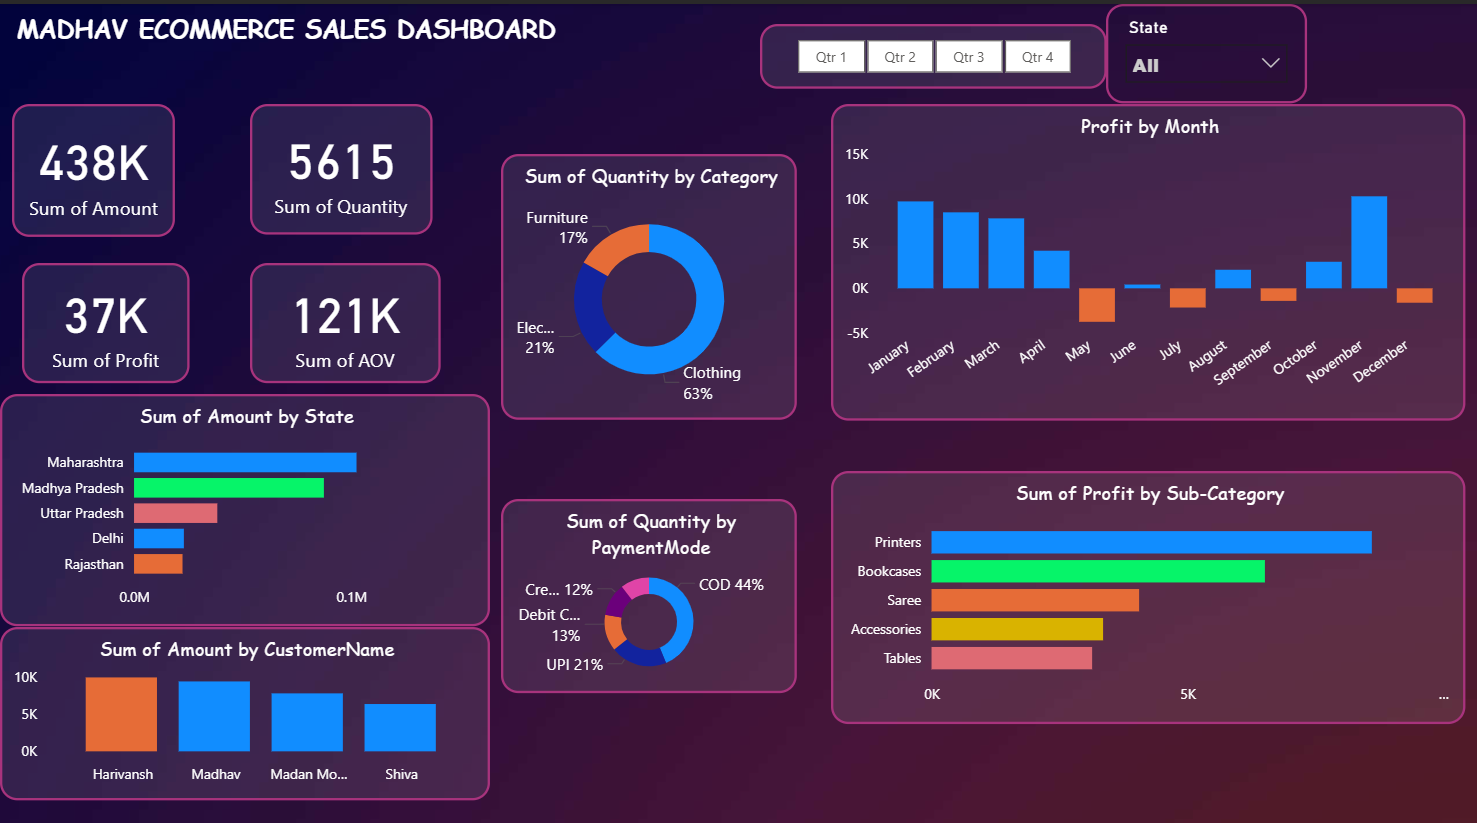

The dashboard page shown, as its layout file describes it:
{"tool":"powerbi","page":{"name":"Page 1","canvas":[1280,720],"ordinal":0},"visuals":[{"type":"textbox","box":[9.6,0,618.9,54.9],"z":0},{"type":"columnChart","title":"Profit by Month","fields":{"Y":["Details.Profit"],"Category":["Orders.Order Date.Variation.Date Hierarchy.Month"]},"box":[718.8,86.2,548.8,273.8],"z":1000},{"type":"barChart","fields":{"Category":["Details.Sub-Category"],"Y":["Details.Profit"]},"box":[718.8,403.8,548.8,218.8],"z":2000},{"type":"donutChart","fields":{"Category":["Details.Category"],"Y":["Details.Quantity"]},"box":[433.8,130,256.2,230],"z":3000},{"type":"donutChart","fields":{"Y":["Details.Quantity"],"Category":["Details.PaymentMode"]},"box":[433.8,428.8,256.2,167.5],"z":4000},{"type":"card","fields":{"Values":["Details.Amount"]},"box":[10,86.2,141.2,115],"z":5000},{"type":"card","fields":{"Values":["Details.Profit"]},"box":[18.8,223.8,145,103.8],"z":6000},{"type":"card","fields":{"Values":["Details.Quantity"]},"box":[216.2,86.2,157.5,112.5],"z":7000},{"type":"card","fields":{"Values":["Details.AOV"]},"box":[216.2,223.8,165,103.8],"z":8000},{"type":"barChart","fields":{"Category":["Orders.State"],"Y":["Details.Amount"]},"box":[0,337.5,423.8,201.2],"z":9000},{"type":"columnChart","fields":{"Category":["Orders.CustomerName"],"Y":["Details.Amount"]},"box":[0,539,424,150],"z":10000},{"type":"slicer","fields":{"Values":["Orders.Order Date.Variation.Date Hierarchy.Quarter"]},"box":[657.5,17.5,300,56.2],"z":11000},{"type":"slicer","fields":{"Values":["Orders.State"]},"box":[957.5,0,173.8,86.2],"z":12000}]}

Visuals, with their boxes in screenshot pixels (x1, y1, x2, y2), scaled from the page's 1280x720 canvas onto the 1477x823 screenshot:
textbox: [11, 0, 725, 63]
"Profit by Month" columnChart: [829, 99, 1463, 412]
barChart - Details.Sub-Category x Details.Profit: [829, 462, 1463, 712]
donutChart - Details.Category x Details.Quantity: [501, 149, 796, 412]
donutChart - Details.Quantity x Details.PaymentMode: [501, 490, 796, 682]
card - Details.Amount: [12, 99, 174, 230]
card - Details.Profit: [22, 256, 189, 374]
card - Details.Quantity: [249, 99, 431, 227]
card - Details.AOV: [249, 256, 440, 374]
barChart - Orders.State x Details.Amount: [0, 386, 489, 616]
columnChart - Orders.CustomerName x Details.Amount: [0, 616, 489, 788]
slicer - Orders.Order Date.Variation.Date Hierarchy.Quarter: [759, 20, 1105, 84]
slicer - Orders.State: [1105, 0, 1305, 99]
